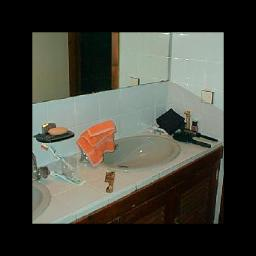Lavamanos: (73, 130, 183, 180)
